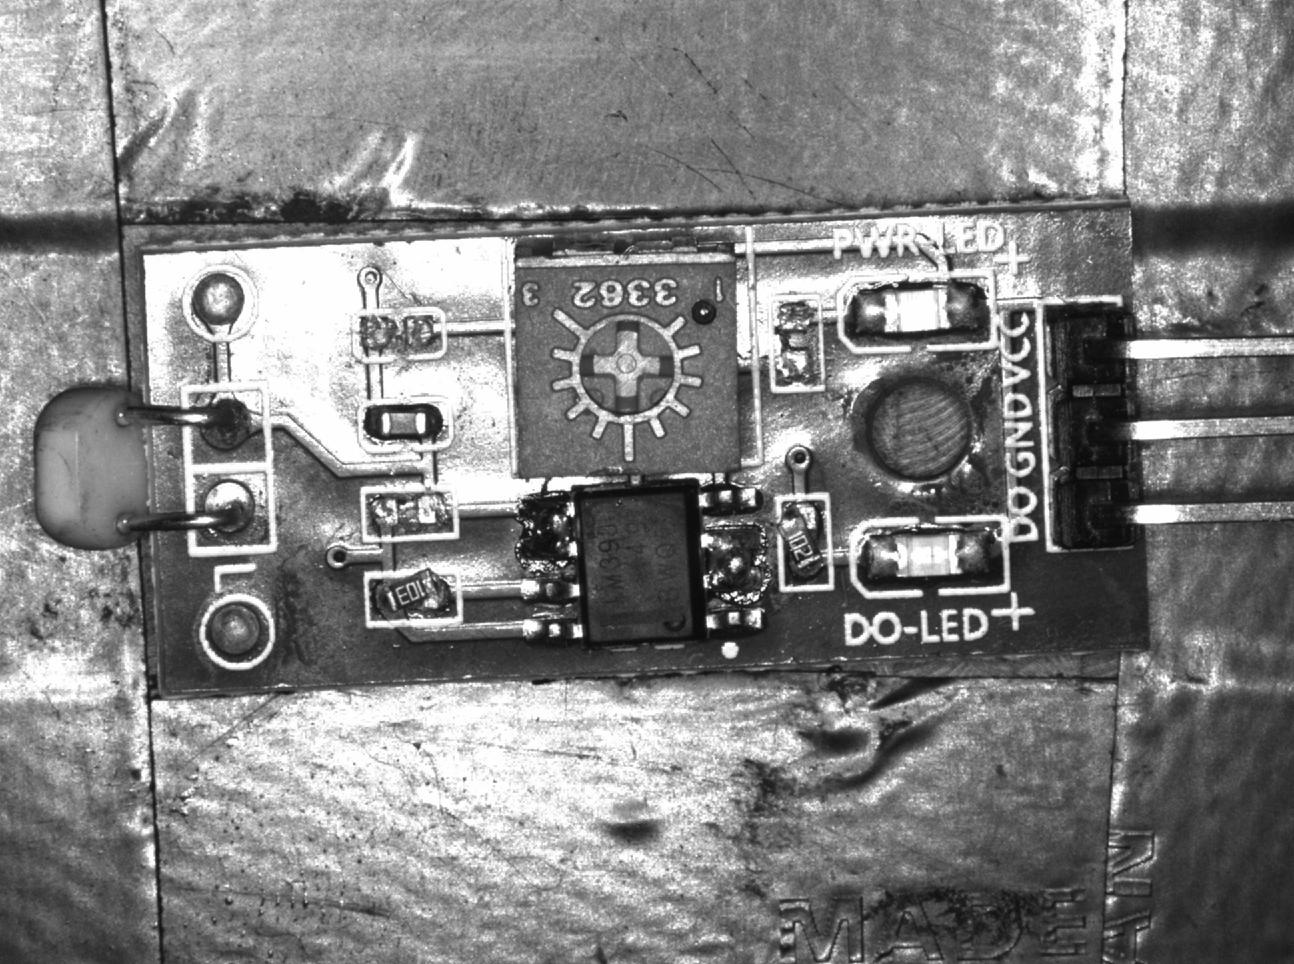bridge: (702, 523, 770, 597), (520, 493, 576, 560)
lifted: (366, 568, 461, 626), (776, 493, 832, 587)
miss: (769, 295, 826, 388), (363, 488, 457, 537), (353, 312, 446, 359)
ok: (360, 402, 450, 447)
